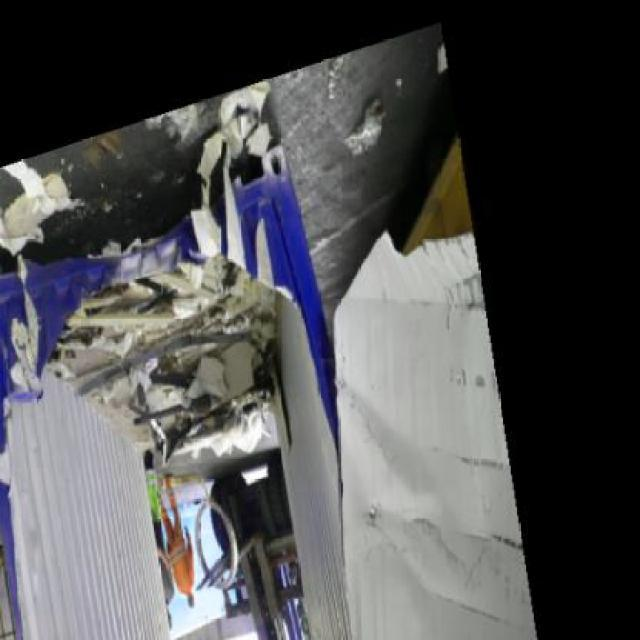hole: (46, 234, 355, 545)
